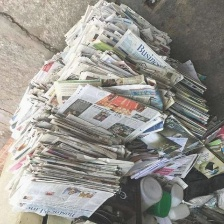news_paper: (48, 0, 183, 147), (114, 50, 214, 185), (6, 112, 123, 223), (7, 50, 66, 158)
